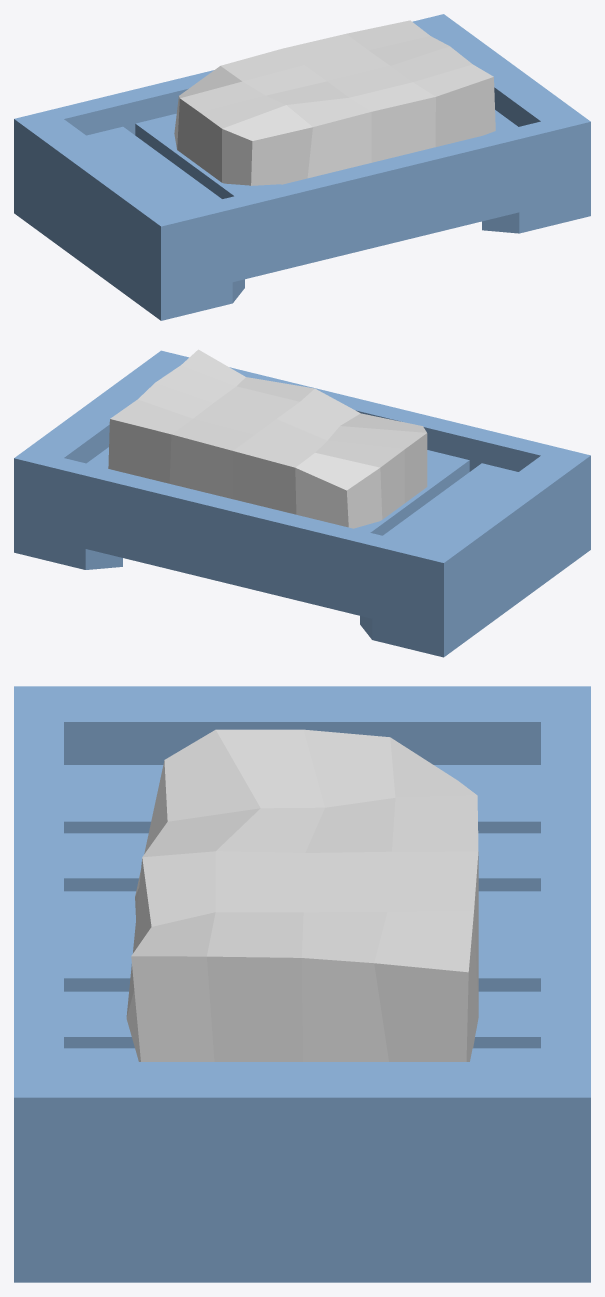
Rendered from soap bar.fbx.
3 renders of one model, top to bottom at view 1: azimuth 30°, elevation 25°; view 2: azimuth 150°, elevation 25°; view 3: azimuth 270°, elevation 25°, orthographic. The views are drawn at different scales.
Parts seen in each view (by area): view 1: soap holder; view 2: soap holder; view 3: soap holder.
Part boxes in pixels (bbox=[...]): soap holder: bbox=[14, 14, 590, 320]; soap holder: bbox=[14, 349, 590, 657]; soap holder: bbox=[14, 686, 590, 1282].
Bounding box in the file's own units: 127 × 37.89 × 75.56.
